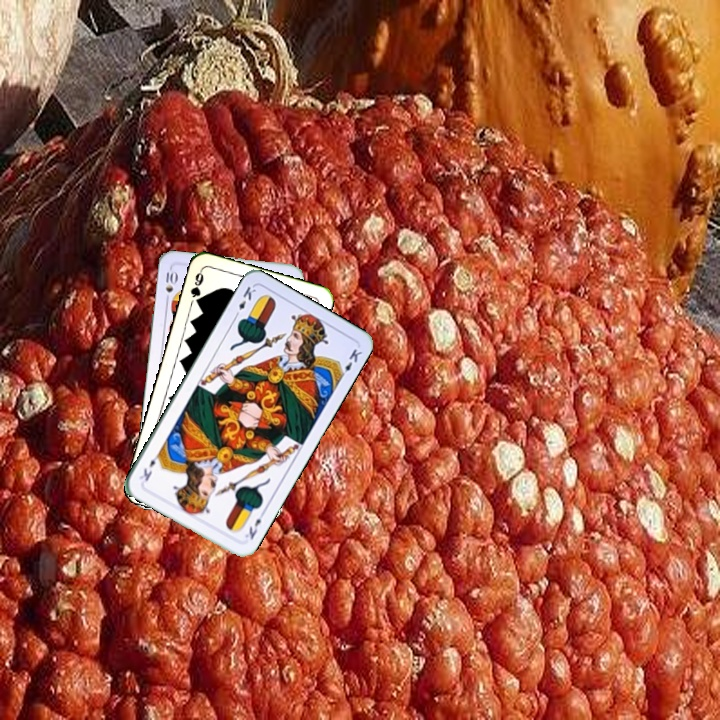EK: (231, 282, 259, 320), (239, 507, 266, 545)
G9: (186, 266, 206, 308)
S10: (162, 267, 179, 305)
